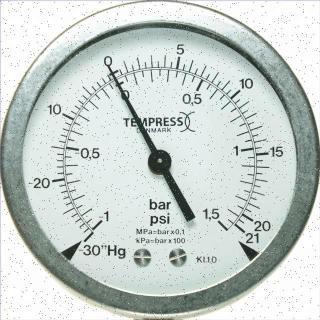gauge: (1, 1, 319, 319), (146, 148, 172, 176), (74, 222, 98, 252), (206, 210, 234, 234), (103, 60, 115, 74)
